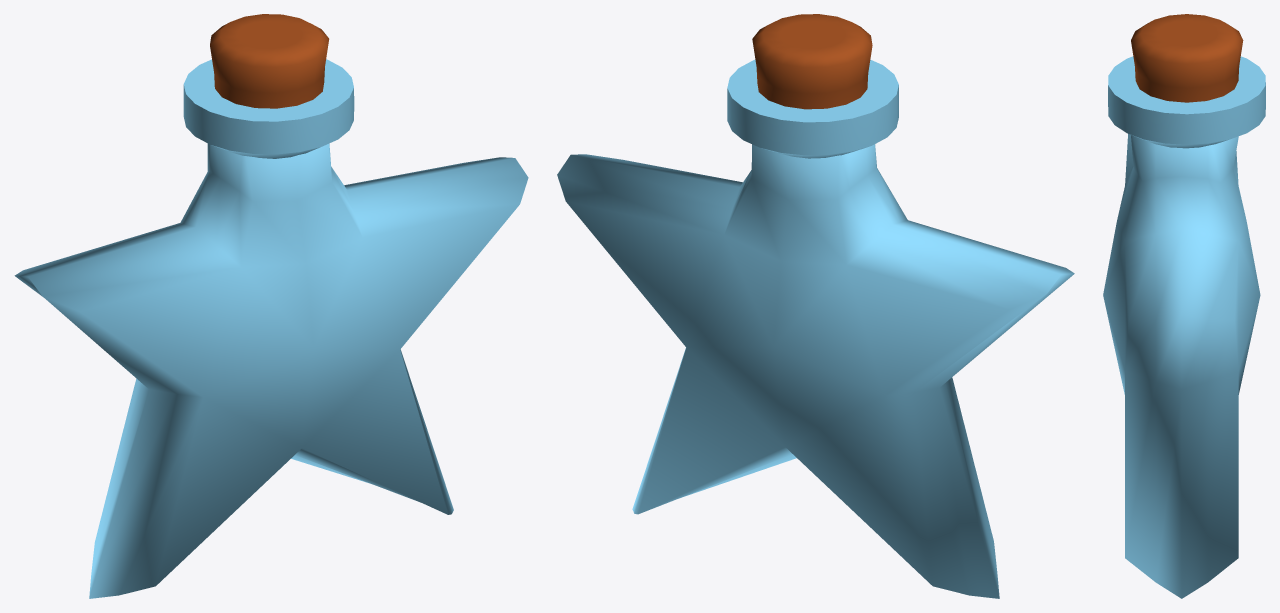
File: FlaskStar.fbx
3 views of the same model, side by side, from view 1: azimuth 30°, elevation 25°; view 2: azimuth 150°, elevation 25°; view 3: azimuth 270°, elevation 25° (orthographic). The views are drawn at different scales.
Parts seen in each view (by area): view 1: FlaskStar; view 2: FlaskStar; view 3: FlaskStar.
Boxes of the visible parts, box(x1,y1,x2,y2) form: FlaskStar: box(14, 14, 528, 598); FlaskStar: box(557, 14, 1074, 598); FlaskStar: box(1103, 14, 1265, 598).
Bounding box in the file's own units: 24.23 × 24.58 × 7.51.
